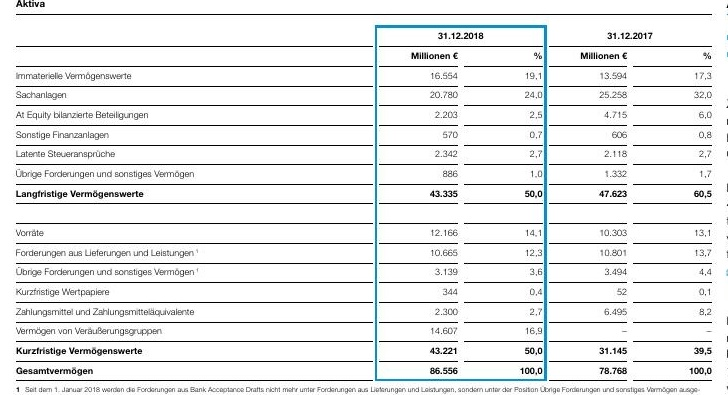table: (0, 0, 728, 395)
